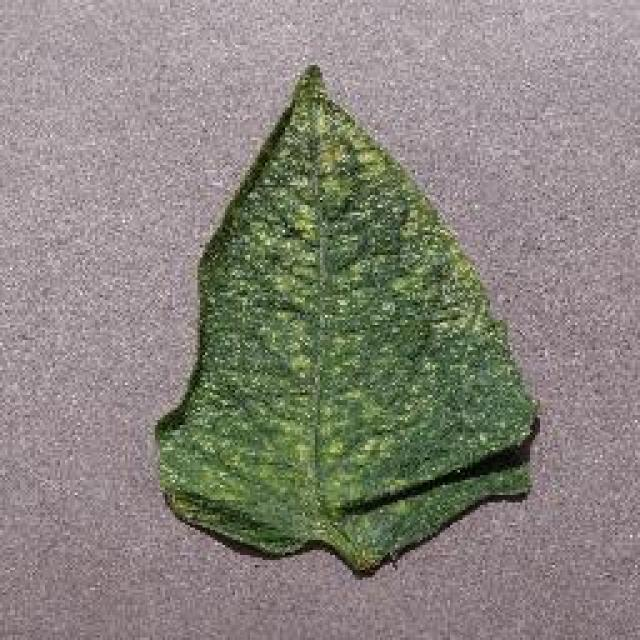Tomato___Spider_mites Two-spotted_spider_mite: (155, 65, 535, 570)
